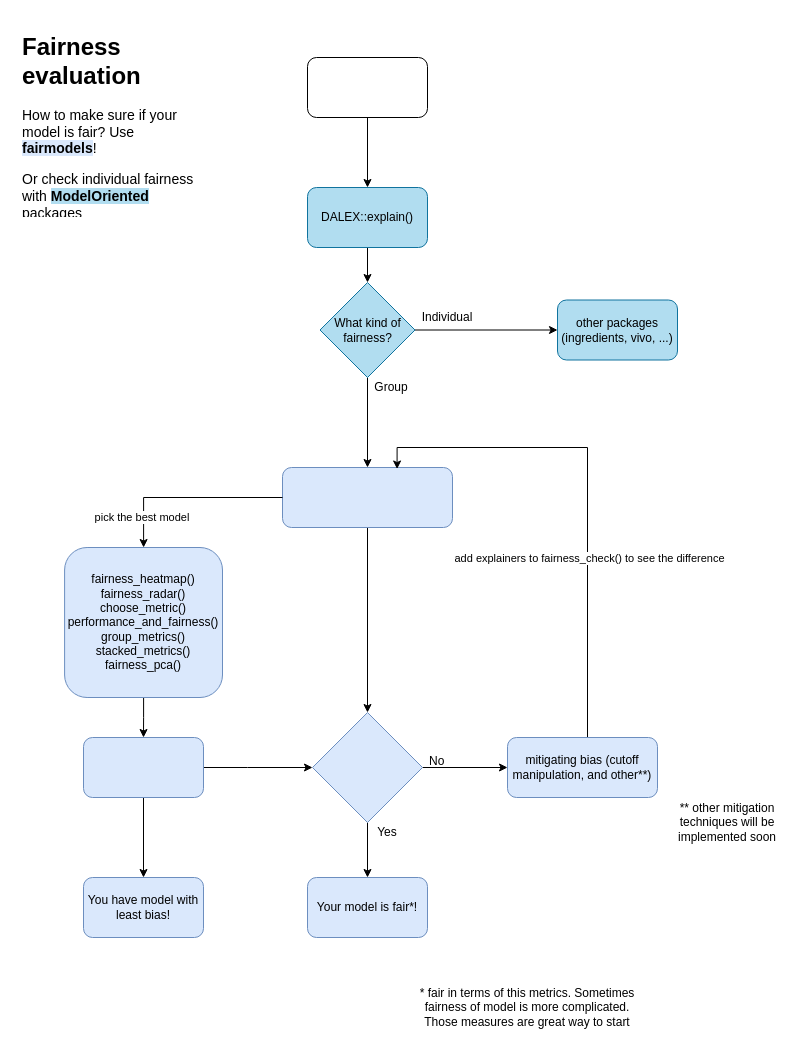
The diagram is 804 pixels wide and 1046 high, and some of its shapes have lost their labels. The box of each missing label's shape, as (x1, y1, x2, y2) in pixels:
fairness_check(): (282, 466, 452, 528)
Model: (306, 56, 428, 118)
passes fairness check?: (312, 712, 422, 822)
pick one with small value of parity loss: (82, 736, 204, 798)
